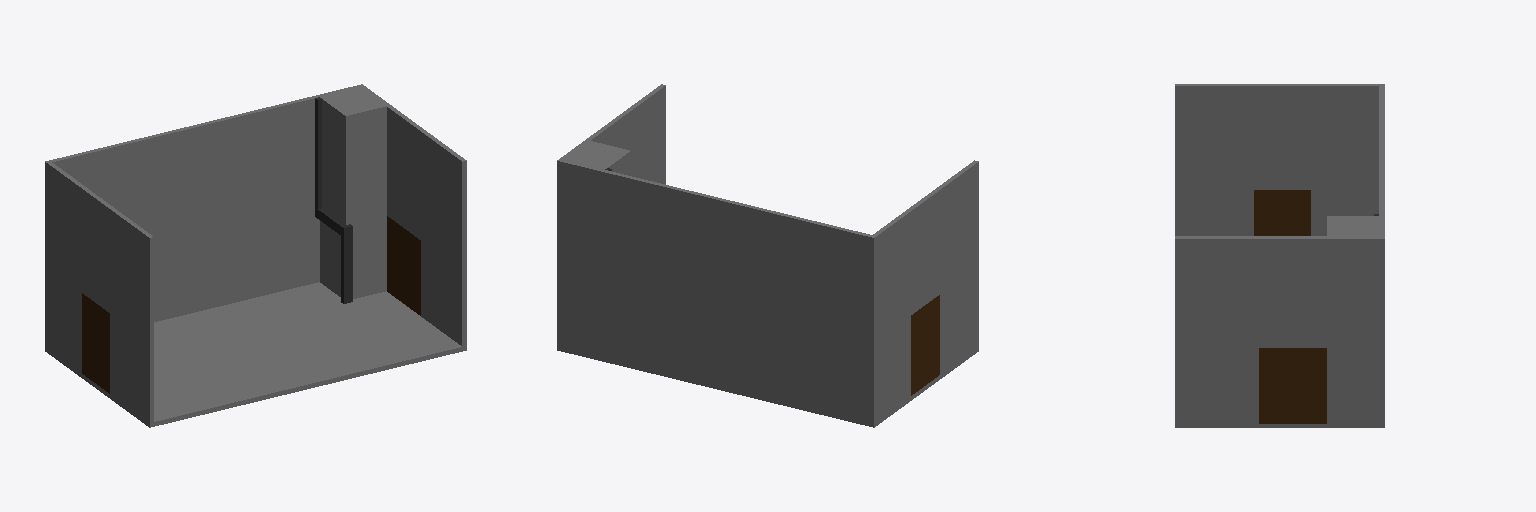
The picture shows the model from 3 angles: view 1: azimuth 30°, elevation 25°; view 2: azimuth 150°, elevation 25°; view 3: azimuth 270°, elevation 25°; orthographic projection.
Visible parts, largest first — view 1: object 1; view 2: object 1; view 3: object 1.
Part boxes in pixels (x1,y1,x2,y2): object 1: (45, 84, 466, 427); object 1: (557, 84, 978, 427); object 1: (1175, 84, 1384, 427).
Bounding box in the file's own units: 7 × 4 × 4.
Materials: 1 (1 with a texture image).